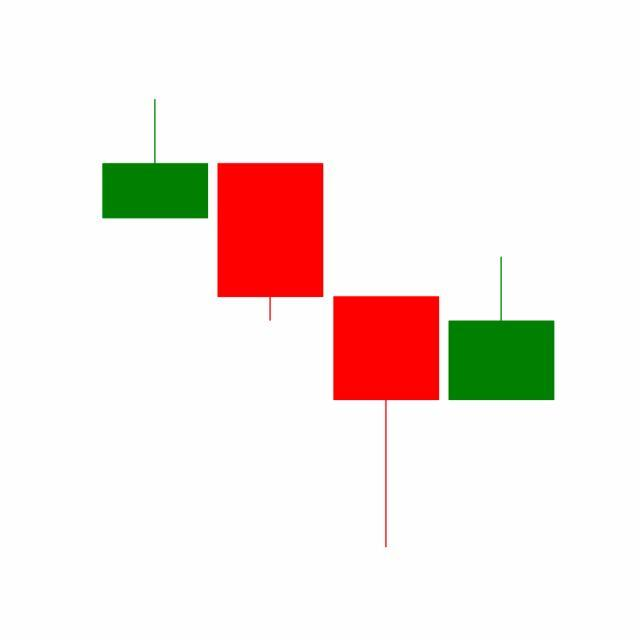Hammer: (329, 294, 445, 552)
